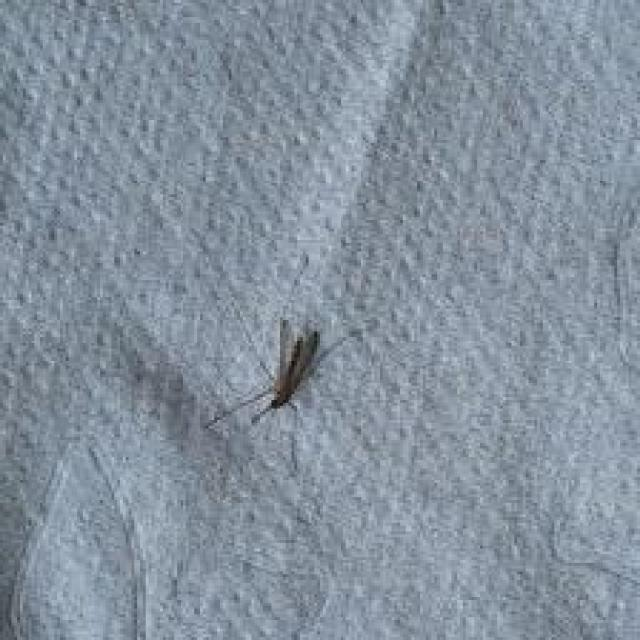Culex: (203, 317, 323, 432)
